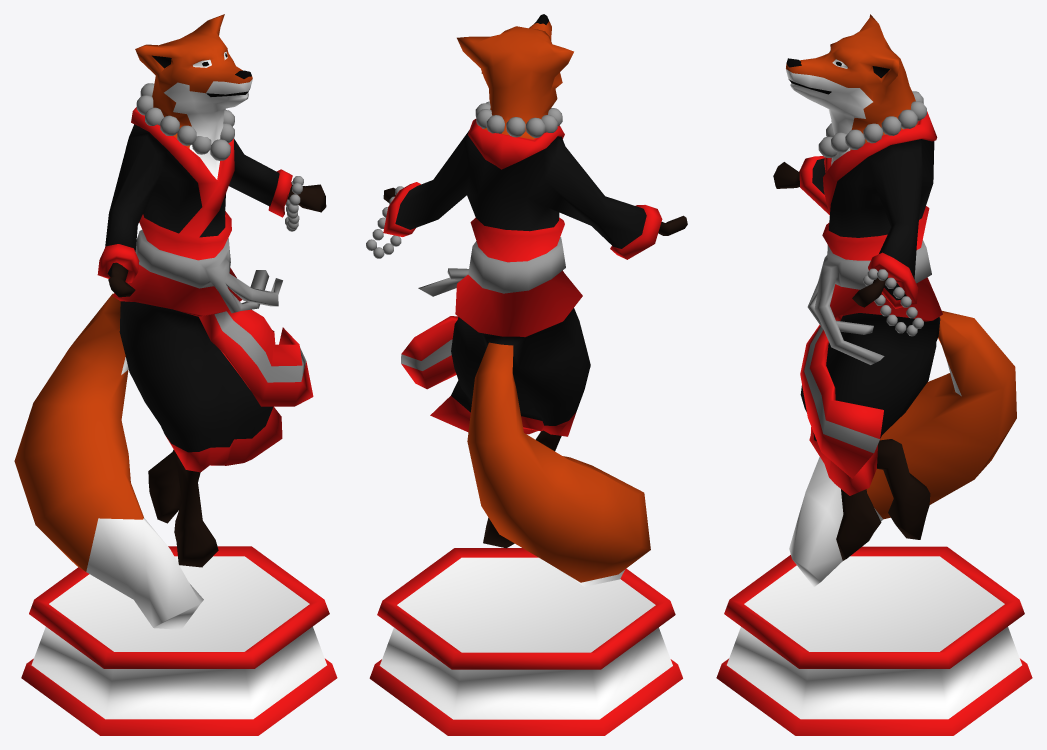
The model's file is novize.FBX.
The picture shows the model from 3 angles, left to right: view 1: azimuth 30°, elevation 25°; view 2: azimuth 150°, elevation 25°; view 3: azimuth 270°, elevation 25°; orthographic projection.
Parts seen in each view (by area): view 1: novize; view 2: novize; view 3: novize.
Boxes of the visible parts, left/top/right/bottom form: novize: left=14, top=14, right=337, bottom=735; novize: left=366, top=14, right=687, bottom=735; novize: left=716, top=14, right=1032, bottom=735.
Bounding box in the file's own units: 37.52 × 83.69 × 37.34.
